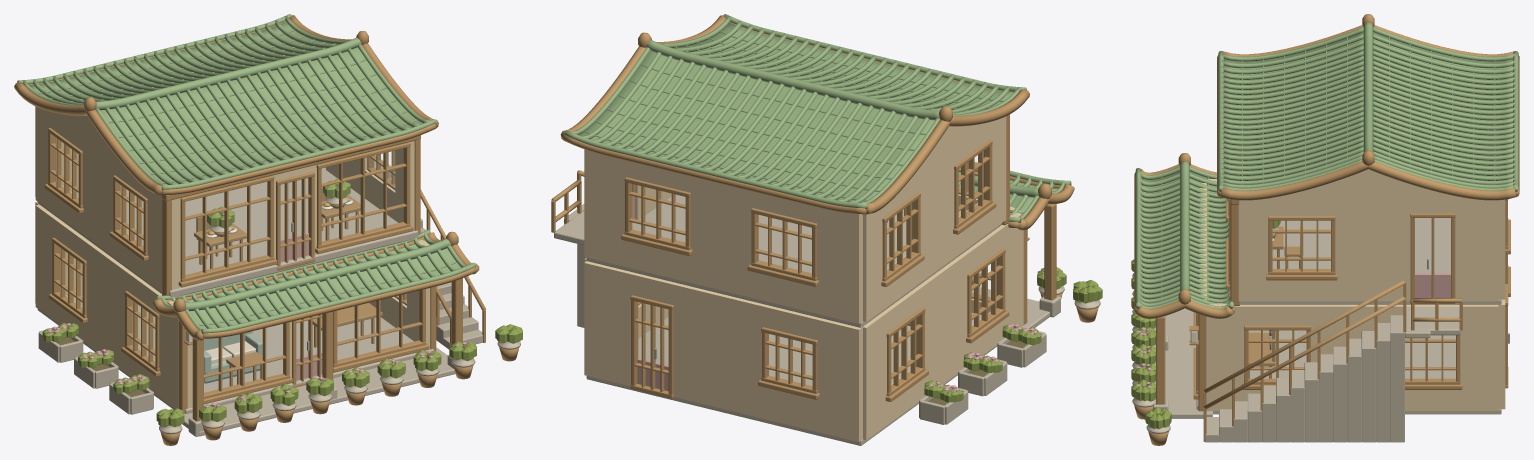
3 renders of one model, left to right at view 1: azimuth 30°, elevation 25°; view 2: azimuth 150°, elevation 25°; view 3: azimuth 270°, elevation 25°, orthographic. The views are drawn at different scales.
Parts seen in each view (by area): view 1: SM_23_02_曲面屋顶, SM_23_01_建筑墙体, SM_23_04_门窗楼梯, SM_23_05_景观植物, SM_23_03_木构回廊, SM_23_06_景观设施; view 2: SM_23_01_建筑墙体, SM_23_02_曲面屋顶, SM_23_04_门窗楼梯, SM_23_05_景观植物, SM_23_03_木构回廊; view 3: SM_23_02_曲面屋顶, SM_23_01_建筑墙体, SM_23_04_门窗楼梯, SM_23_05_景观植物, SM_23_03_木构回廊, SM_23_06_景观设施.
Part boxes in pixels (x1,y1,x2,y2): SM_23_02_曲面屋顶: [14, 14, 479, 340]; SM_23_01_建筑墙体: [35, 106, 455, 436]; SM_23_04_门窗楼梯: [44, 128, 485, 404]; SM_23_05_景观植物: [38, 178, 522, 445]; SM_23_03_木构回廊: [162, 135, 462, 436]; SM_23_06_景观设施: [194, 187, 382, 386]; SM_23_01_建筑墙体: [584, 116, 1049, 445]; SM_23_02_曲面屋顶: [560, 14, 1074, 230]; SM_23_04_门窗楼梯: [551, 140, 1029, 401]; SM_23_05_景观植物: [919, 267, 1102, 424]; SM_23_03_木构回廊: [1002, 114, 1060, 325]; SM_23_02_曲面屋顶: [1134, 14, 1519, 318]; SM_23_01_建筑墙体: [1155, 169, 1505, 418]; SM_23_04_门窗楼梯: [1189, 198, 1510, 442]; SM_23_05_景观植物: [1131, 220, 1280, 445]; SM_23_03_木构回廊: [1153, 184, 1239, 411]; SM_23_06_景观设施: [1248, 226, 1303, 378].
Size of the model in its own units: 10.72 by 7.39 by 9.63.
